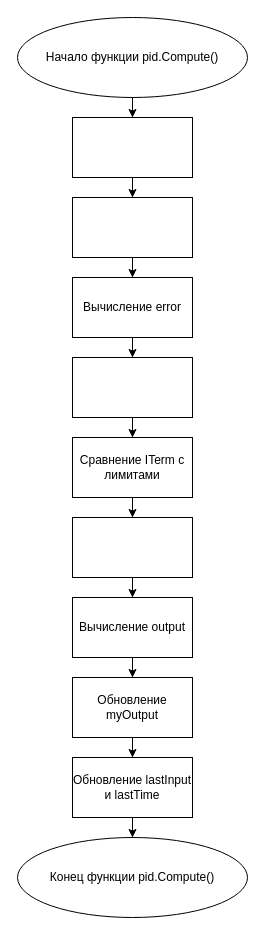
Image size: 265x935. Some labels were removed from this diagram. Each missing label, with the centre of its shape:
Вычисление dInput: point (132, 547)
Вычисление timeChange: point (132, 227)
Обновление ITerm: point (132, 387)
Проверка состояния Auto: point (132, 147)
